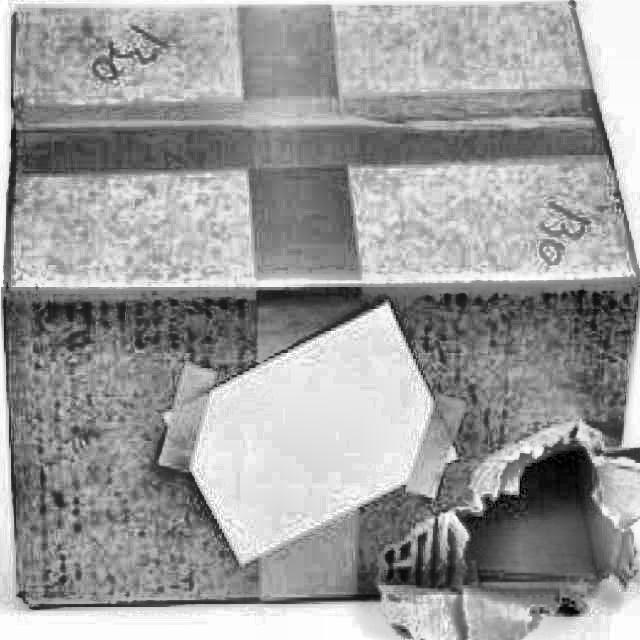box: (0, 0, 640, 630)
hole: (464, 432, 616, 597)
